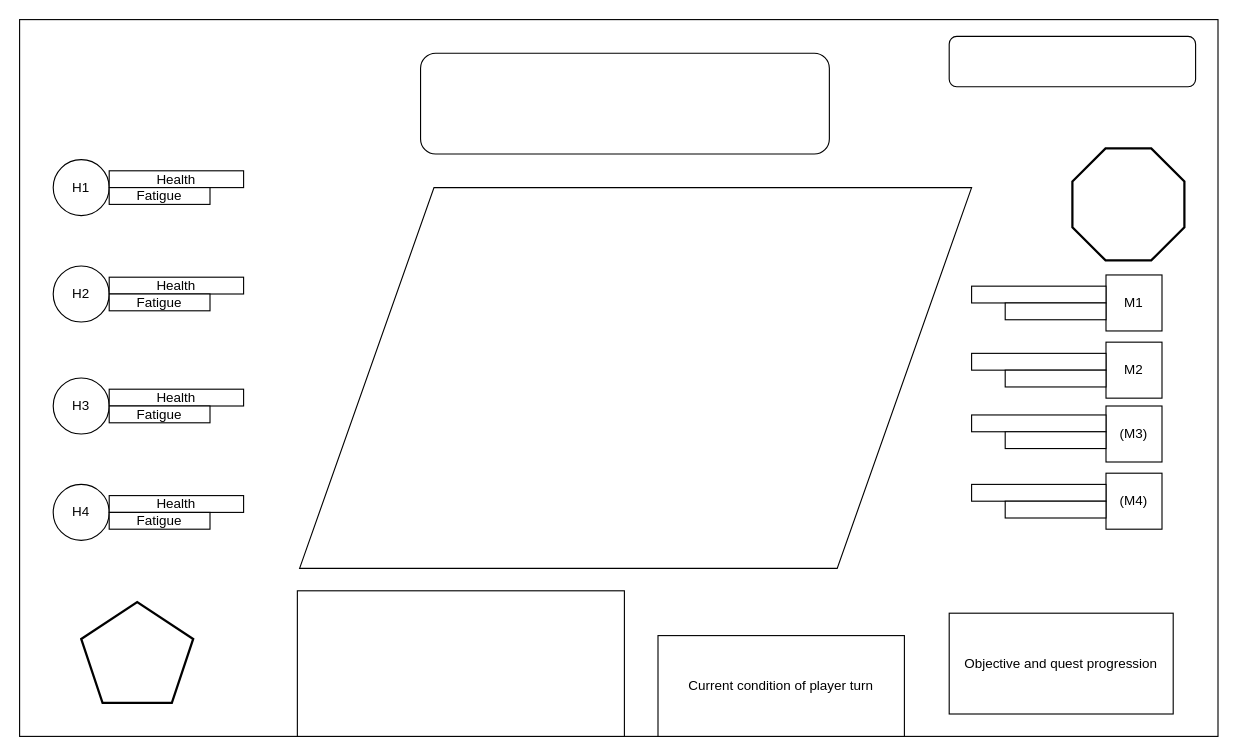
Some shapes in this 1238 by 756 pixel diagram are drawn without their labels. Here are the shapes that lost their labels. From the top down, the centre of each, then its label:
At (1072,61): "Quest Name/Game Time".
At (624,103): "Scroll-able live feed".
At (1128,204): "Overlord".
At (635,377): "Board".
At (137,651): "Dice".
At (460,663): "Cards".
